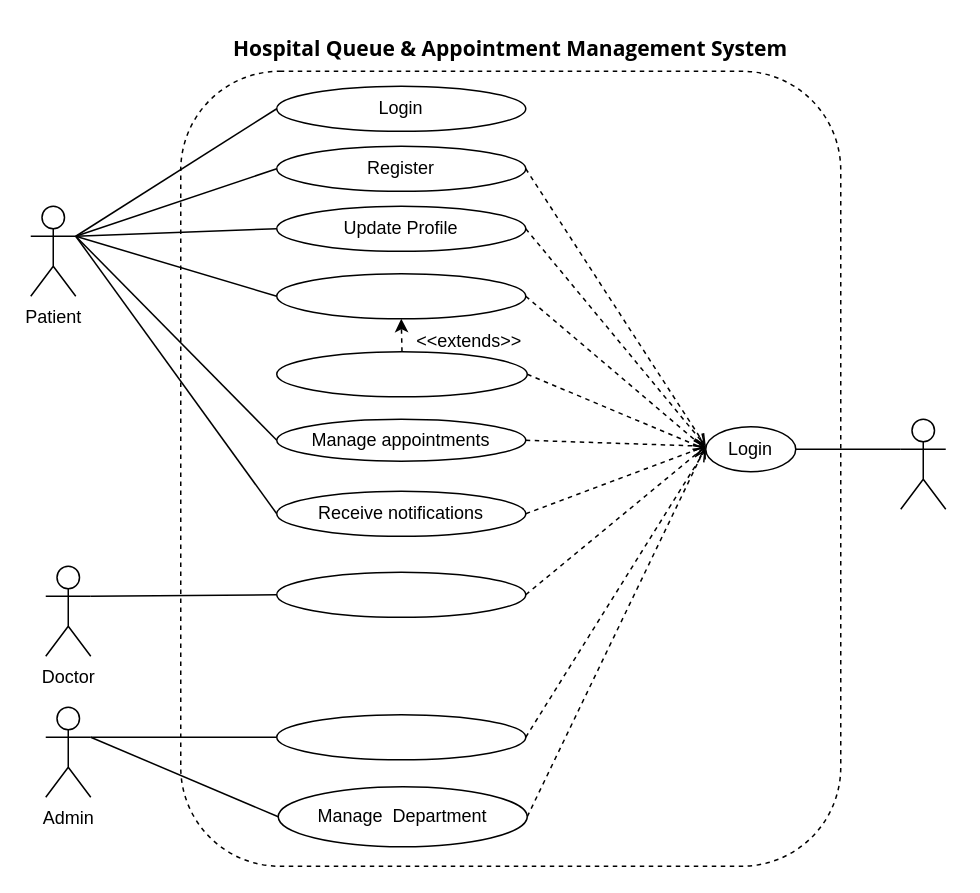
This 980x893 diagram has some shape labels left out. The centre of each missing label's shape, as x and y in pixels:
Generate Queue Number: (x=401, y=373)
Generate Reports: (x=400, y=736)
System: (x=922, y=463)
View Appointment Records: (x=400, y=594)
View Queue Status: (x=400, y=295)
